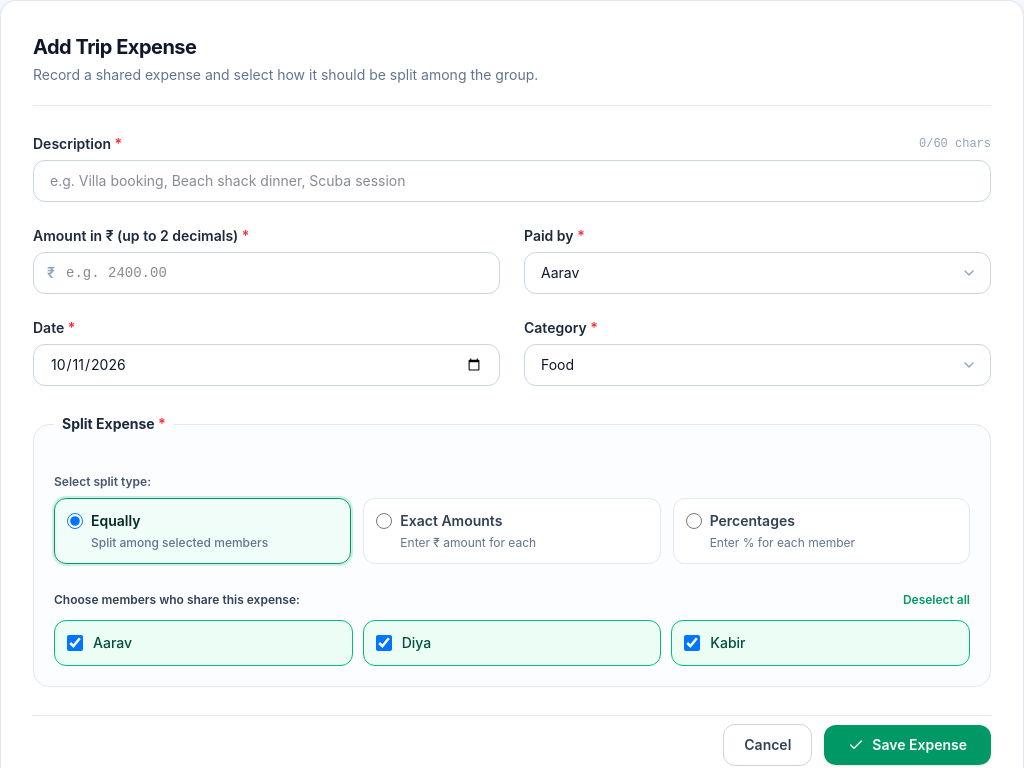
Test: ExpenseForm component › displays validation errors when saving with empty required fields
The image size is (1024, 768).
Click the button "Save Expense" at {"x": 908, "y": 745}, box [824,725,991,765]
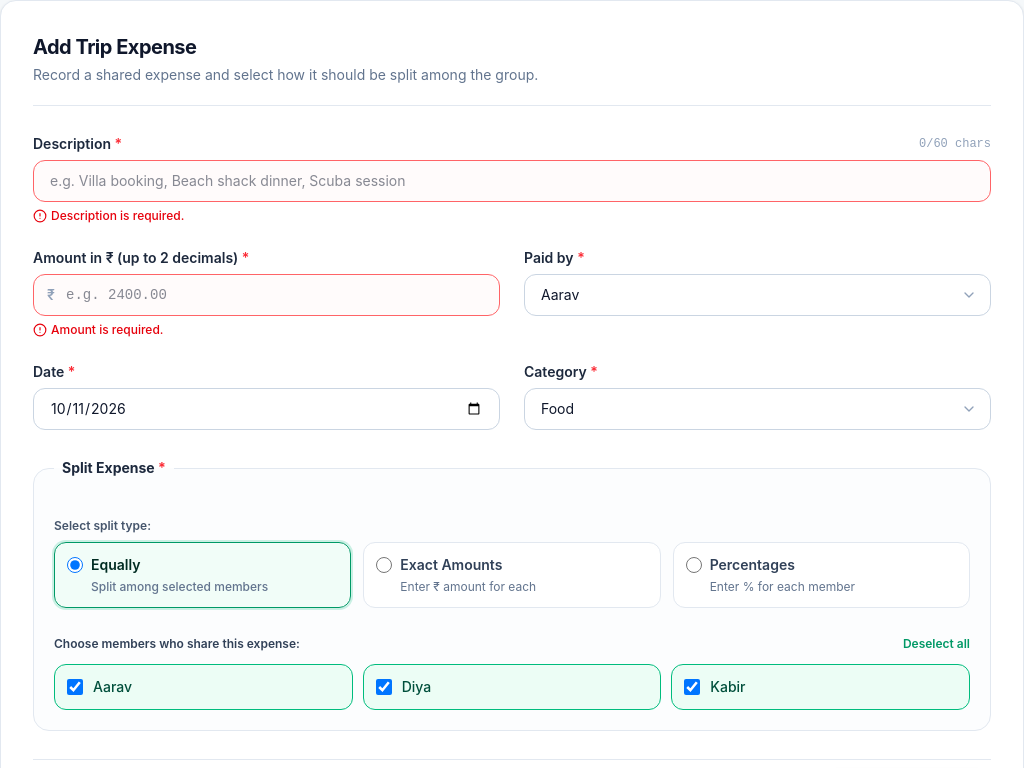
Check: the text "Description is required." is shown, box [51,208,184,224]
Check: the text "Amount is required." is shown, box [51,322,164,338]
